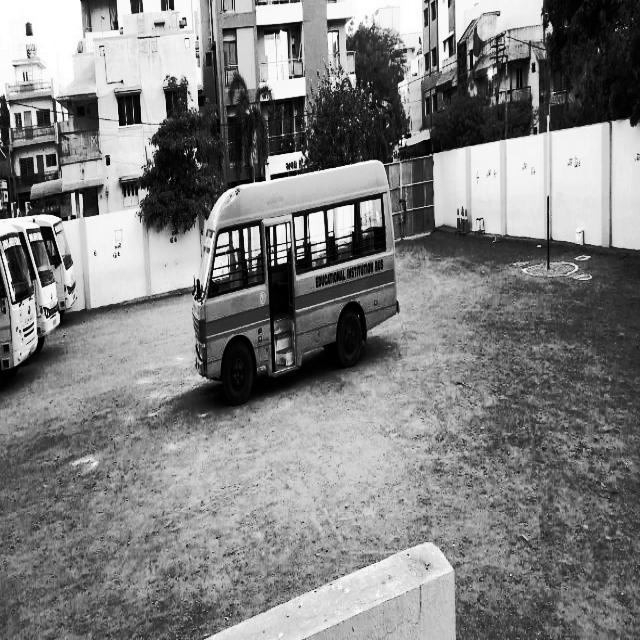Bus: (180, 155, 416, 416), (1, 232, 38, 376), (24, 225, 60, 351), (44, 211, 80, 320)
